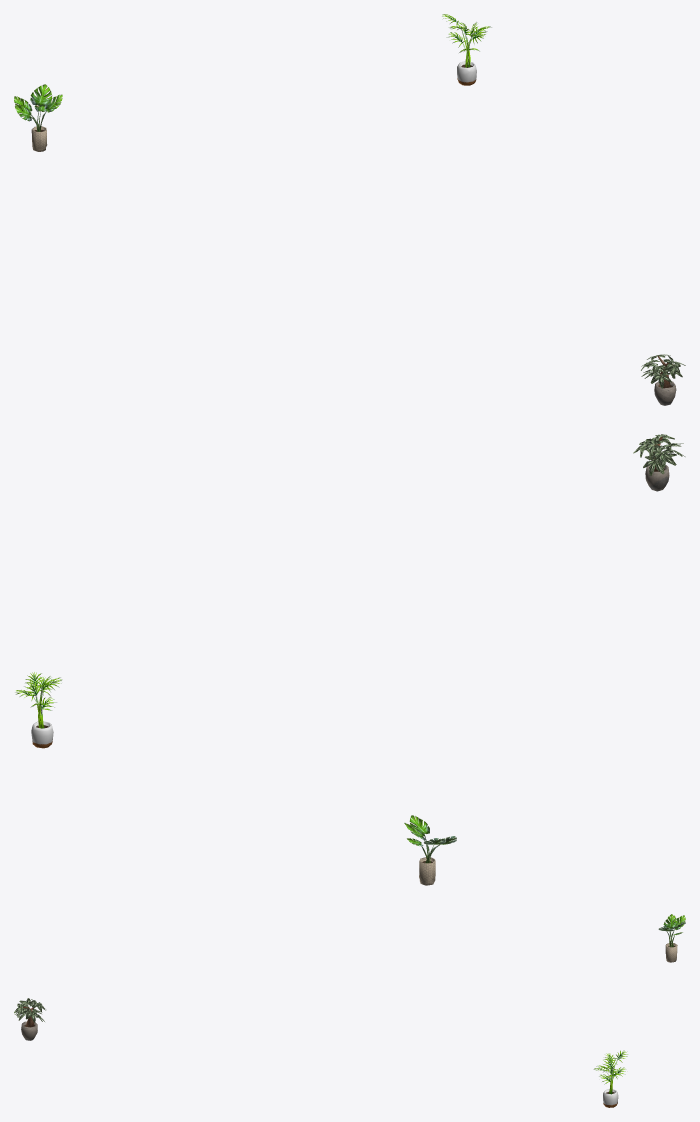
Rendered from mesh_livingroom_medium_plants.glb.
3 renders of one model, top to bottom at view 1: azimuth 30°, elevation 25°; view 2: azimuth 150°, elevation 25°; view 3: azimuth 270°, elevation 25°, orthographic. The views are drawn at different scales.
Parts seen in each view (by area): view 1: Medium_Plant_1; view 2: Medium_Plant_1; view 3: Medium_Plant_1.
Boxes of the visible parts, x1,y1,x2,y2 form: Medium_Plant_1: (14,14,685,405); Medium_Plant_1: (15,434,685,885); Medium_Plant_1: (14,914,685,1107).
Bounding box in the file's own units: 5.11 × 0.7458 × 8.89.
1 material, 1 textured.
